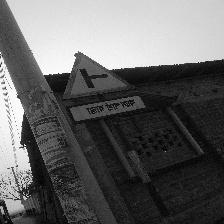Side-road-left: (62, 52, 147, 124)
